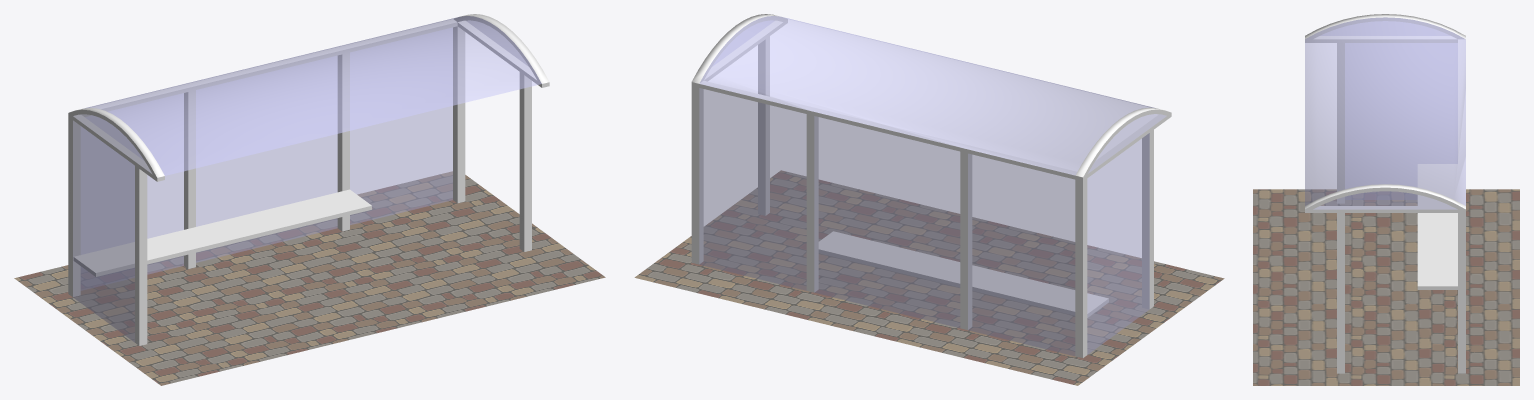
The model's file is busStop.glb.
3 views of the same model, side by side, from view 1: azimuth 30°, elevation 25°; view 2: azimuth 150°, elevation 25°; view 3: azimuth 270°, elevation 25° (orthographic). The views are drawn at different scales.
Parts seen in each view (by area): view 1: ostanovka_2, Pavement_3; view 2: ostanovka_2, Pavement_3; view 3: Pavement_3, ostanovka_2.
Part boxes in pixels (left/top/right/bottom): ostanovka_2: left=68, top=14, right=549, bottom=345; Pavement_3: left=14, top=171, right=605, bottom=385; ostanovka_2: left=691, top=14, right=1171, bottom=357; Pavement_3: left=634, top=170, right=1224, bottom=385; Pavement_3: left=1253, top=189, right=1519, bottom=385; ostanovka_2: left=1305, top=14, right=1465, bottom=373.
Size of the model in its own units: 5.78 by 2.55 by 3.31.
3 materials, 1 textured.
